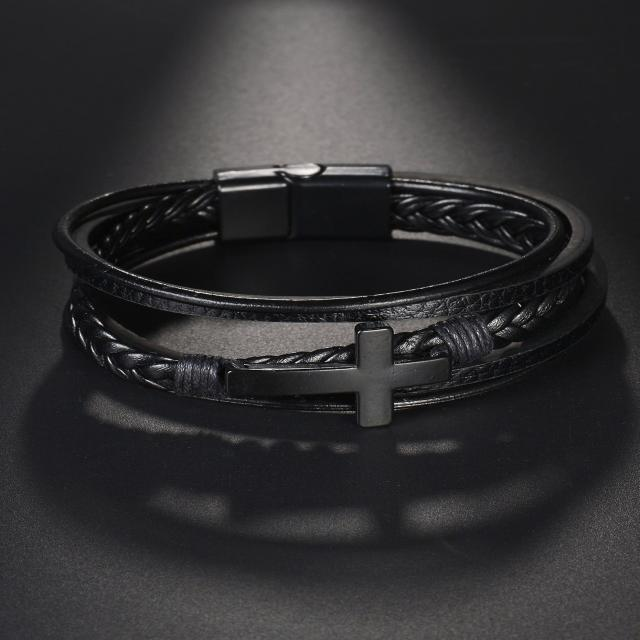bracelet: (8, 111, 640, 437)
